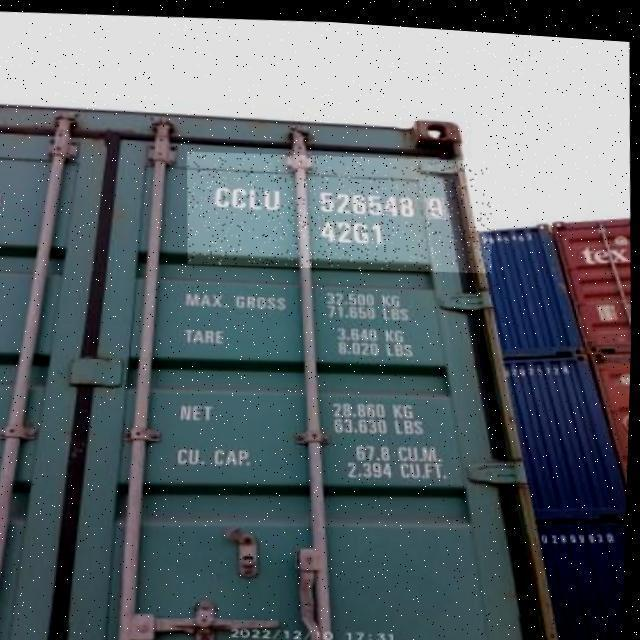container_number_h: (185, 137, 496, 277)
